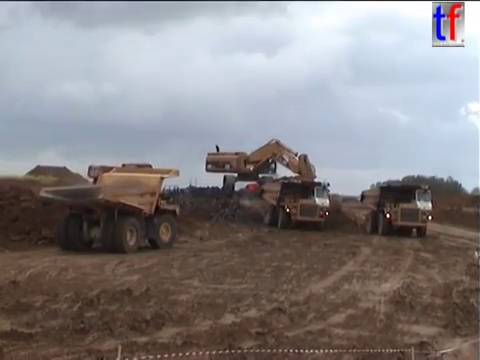excavator: (203, 136, 343, 224), (259, 178, 331, 231), (243, 173, 319, 202)
truck: (37, 165, 181, 254), (358, 183, 433, 238), (86, 162, 154, 189)
